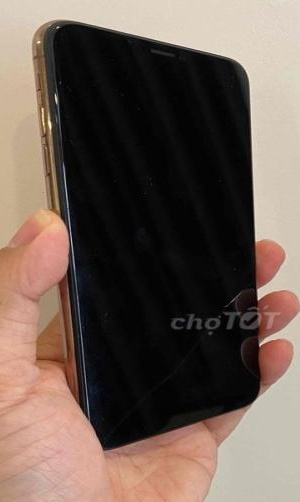scratch: (46, 75, 76, 98), (117, 32, 150, 52), (60, 126, 80, 146), (101, 310, 114, 337)
